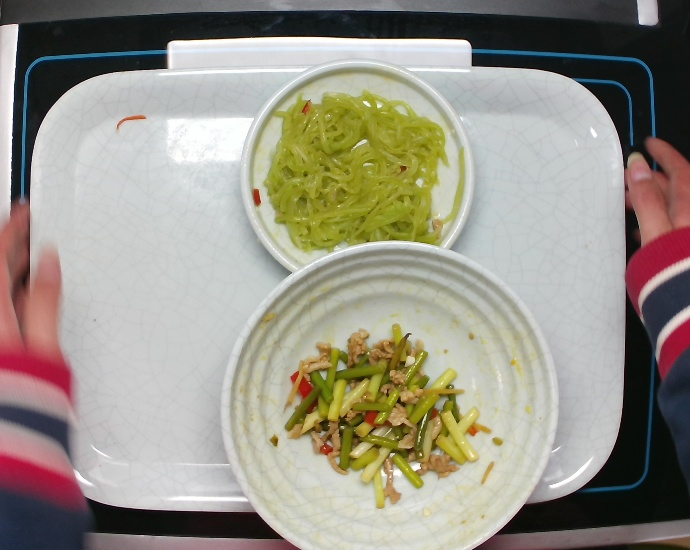JYsf-Da_Tang_Wan: (213, 236, 559, 550)
JYsf-Xiao_Yuan_Pan: (241, 49, 483, 292)
